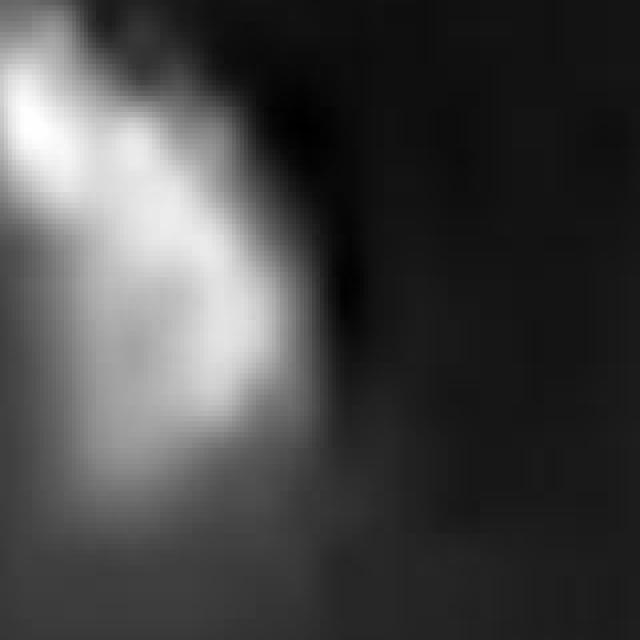person: (1, 1, 329, 582)
